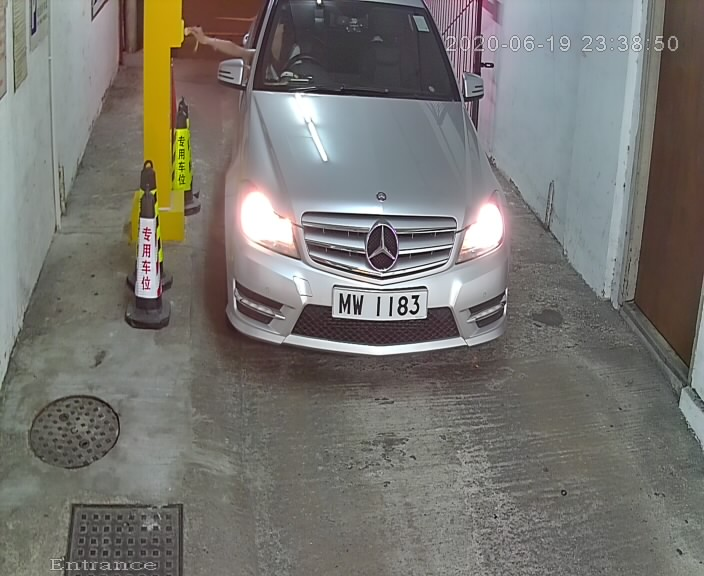privatecar: (177, 3, 543, 400)
